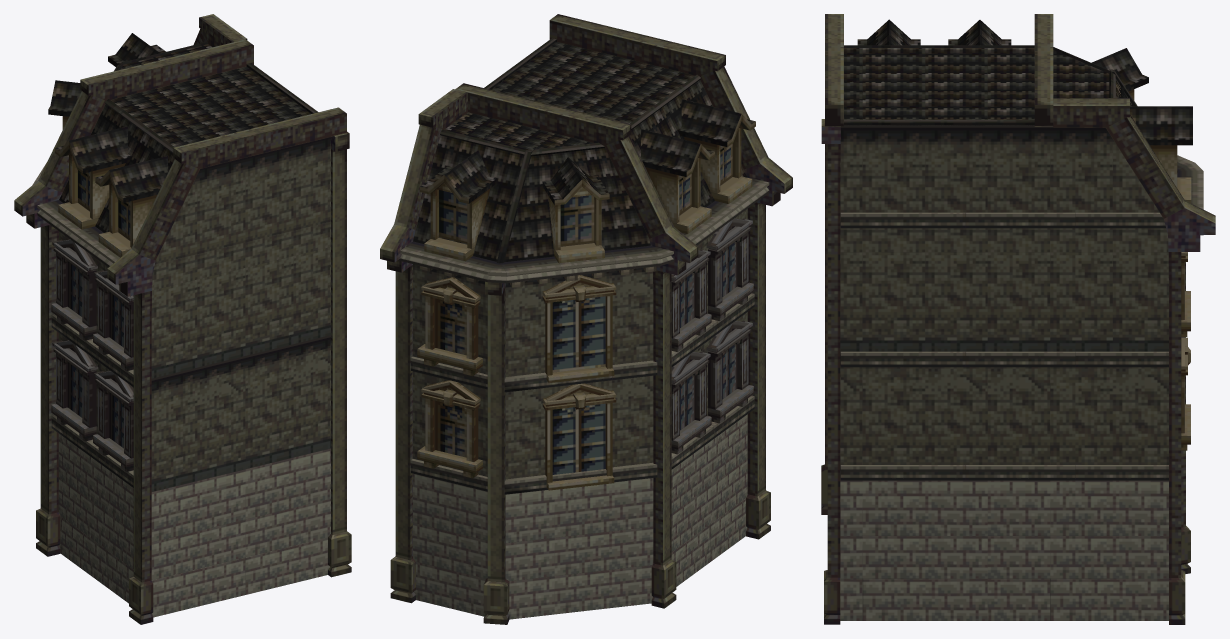
Rendered from EnvBdgMD_City_B_Outdoor_L_D_Arrange_A.FBX.
The picture shows the model from 3 angles, left to right: view 1: azimuth 30°, elevation 25°; view 2: azimuth 150°, elevation 25°; view 3: azimuth 270°, elevation 25°; orthographic projection. The views are drawn at different scales.
Visible parts, largest first — view 1: EnvBdgMD_City_B_Outdoor_L_D_Arrange_A; view 2: EnvBdgMD_City_B_Outdoor_L_D_Arrange_A; view 3: EnvBdgMD_City_B_Outdoor_L_D_Arrange_A.
Part boxes in pixels (box(x1,y1,x2,y2)): EnvBdgMD_City_B_Outdoor_L_D_Arrange_A: box(14, 14, 351, 624); EnvBdgMD_City_B_Outdoor_L_D_Arrange_A: box(380, 14, 792, 624); EnvBdgMD_City_B_Outdoor_L_D_Arrange_A: box(821, 14, 1215, 624).
Bounding box in the file's own units: 491 × 913 × 631.
1 material, 1 textured.
